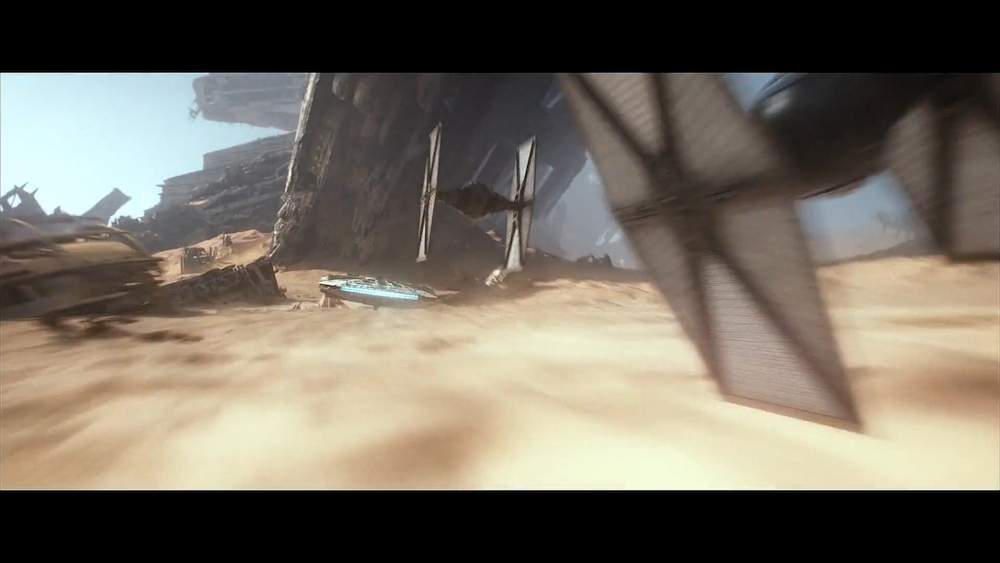Millennium Falcon: (319, 274, 441, 310)
Tie Fighter: (557, 73, 1000, 440), (416, 122, 537, 273)
